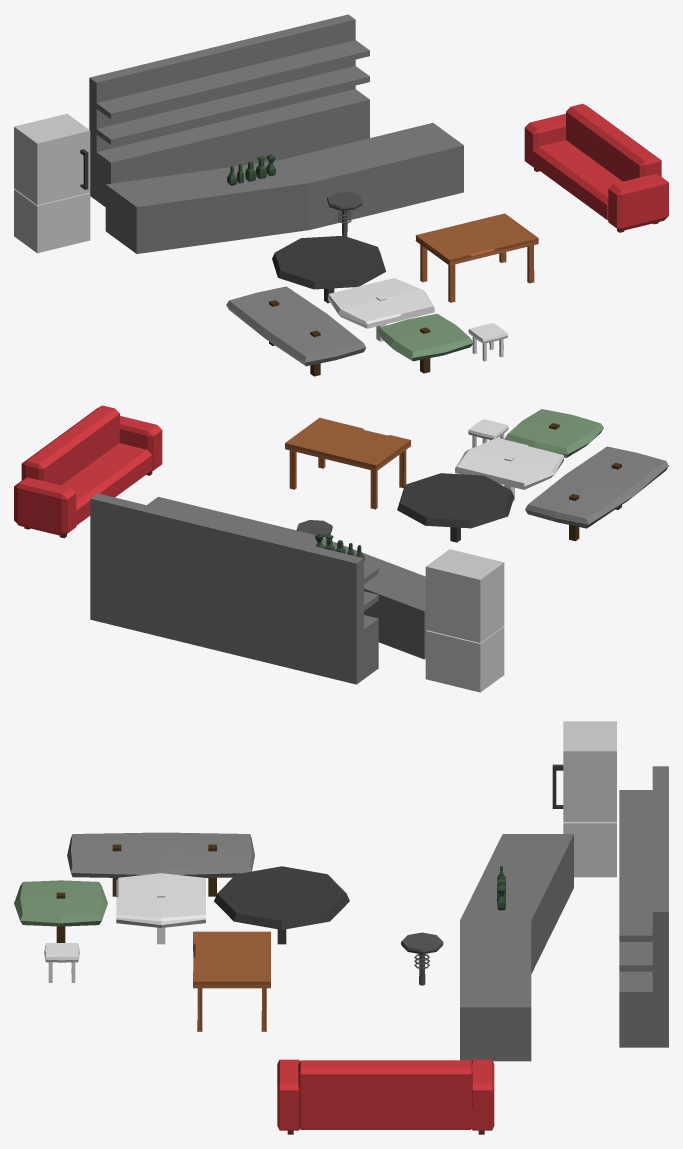
File: props.fbx
3 views of the same model, one above another, from view 1: azimuth 30°, elevation 25°; view 2: azimuth 150°, elevation 25°; view 3: azimuth 270°, elevation 25° (orthographic). The views are drawn at different scales.
Visible parts, largest first — view 1: Cube, Cube.020, Cube.008, Cube.013, Cube.017, Cube.001, Cube.009, Cube.012, Cube.019, Cube.023; view 2: Cube, Cube.020, Cube.008, Cube.013, Cube.017, Cube.001, Cube.009, Cube.012, Cube.019, Cube.023; view 3: Cube, Cube.020, Cube.008, Cube.013, Cube.017, Cube.001, Cube.009, Cube.012, Cube.023, Cube.019.
Part boxes in pixels (x1=…): Cube: x1=89, y1=14, x2=463, y2=253; Cube.020: x1=524, y1=103, x2=668, y2=232; Cube.008: x1=14, y1=113, x2=90, y2=253; Cube.013: x1=226, y1=286, x2=366, y2=376; Cube.017: x1=272, y1=235, x2=385, y2=303; Cube.001: x1=415, y1=213, x2=538, y2=302; Cube.009: x1=328, y1=278, x2=434, y2=341; Cube.012: x1=376, y1=313, x2=473, y2=373; Cube.019: x1=468, y1=323, x2=507, y2=361; Cube.023: x1=327, y1=192, x2=362, y2=236; Cube: x1=90, y1=493, x2=426, y2=684; Cube.020: x1=14, y1=405, x2=162, y2=538; Cube.008: x1=425, y1=549, x2=504, y2=692; Cube.013: x1=525, y1=446, x2=668, y2=541; Cube.017: x1=397, y1=473, x2=514, y2=542; Cube.001: x1=285, y1=417, x2=411, y2=509; Cube.009: x1=455, y1=437, x2=563, y2=501; Cube.012: x1=504, y1=409, x2=603, y2=457; Cube.019: x1=468, y1=419, x2=508, y2=447; Cube.023: x1=296, y1=520, x2=332, y2=537; Cube: x1=460, y1=766, x2=668, y2=1061; Cube.020: x1=277, y1=1059, x2=494, y2=1134; Cube.008: x1=552, y1=721, x2=616, y2=877; Cube.013: x1=67, y1=832, x2=254, y2=896; Cube.017: x1=214, y1=866, x2=349, y2=944; Cube.001: x1=193, y1=931, x2=270, y2=1031; Cube.009: x1=116, y1=873, x2=205, y2=944; Cube.012: x1=14, y1=880, x2=107, y2=942; Cube.023: x1=401, y1=932, x2=443, y2=985; Cube.019: x1=44, y1=943, x2=79, y2=982.
Size of the model in its own units: 4258 by 980 by 4112.
